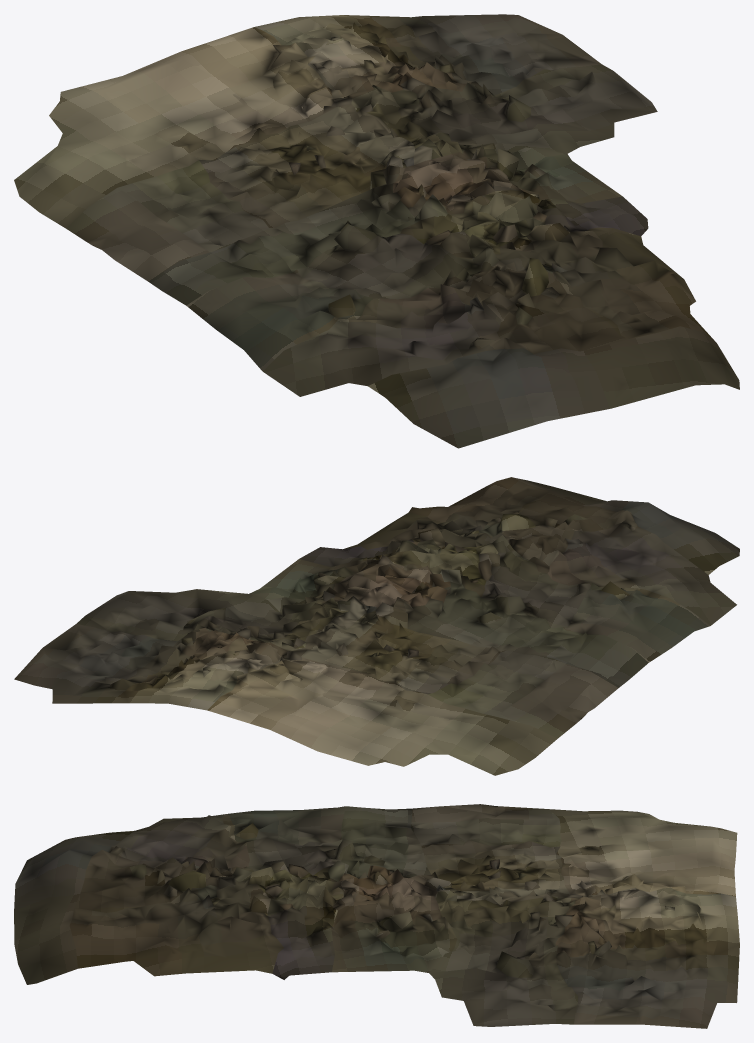
File: coast_rocks_03_lod1.glb
3 renders of one model, top to bottom at view 1: azimuth 30°, elevation 25°; view 2: azimuth 150°, elevation 25°; view 3: azimuth 270°, elevation 25°, orthographic. The views are drawn at different scales.
Visible parts, largest first — view 1: coast_rocks_03; view 2: coast_rocks_03; view 3: coast_rocks_03.
Part boxes in pixels (bbox=[...]): coast_rocks_03: bbox=[14, 14, 739, 448]; coast_rocks_03: bbox=[14, 477, 739, 775]; coast_rocks_03: bbox=[14, 804, 739, 1028].
Bounding box in the file's own units: 21.11 × 3.15 × 28.23.
1 material, 1 textured.
